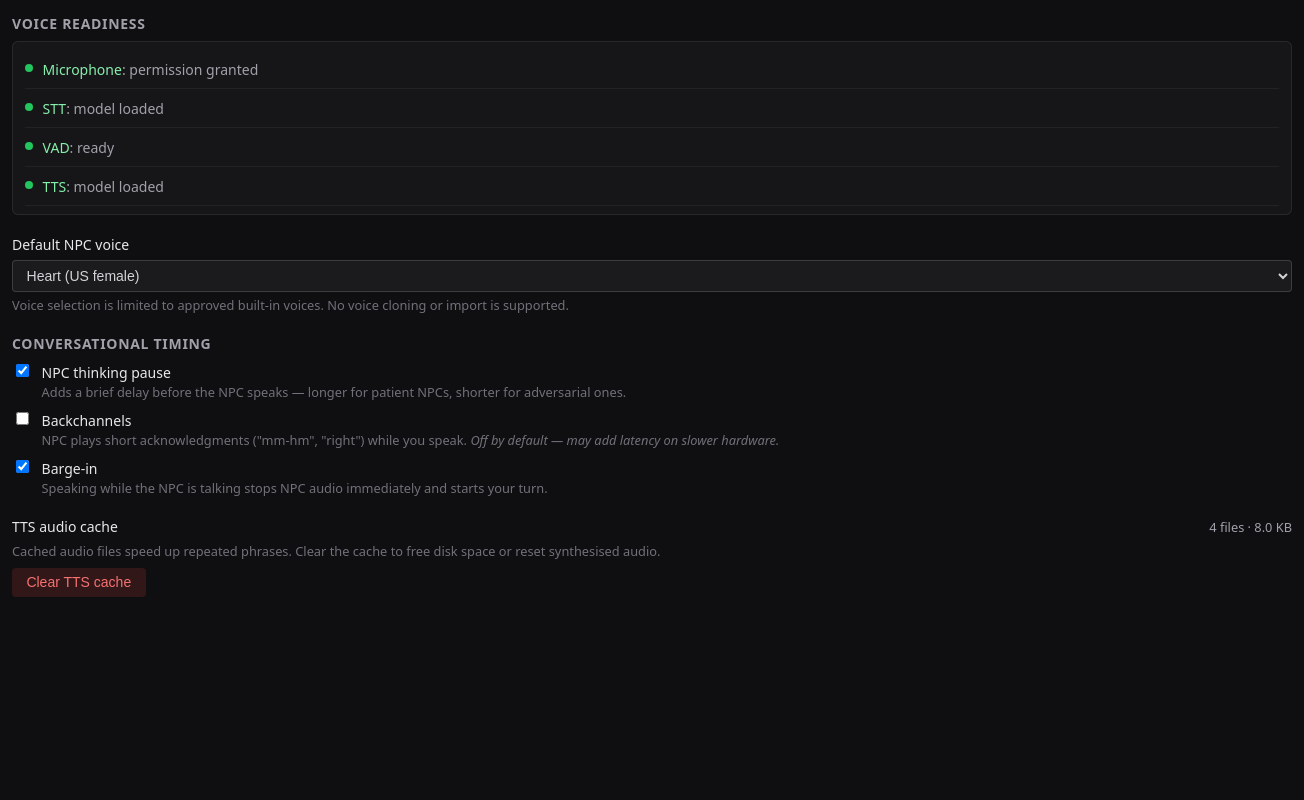
Test: TTS cache › shows error message when clear fails
This screenshot has width=1304, height=800.
Click the button "Clear TTS cache": (79, 582) x1=12 y1=568 x2=146 y2=597
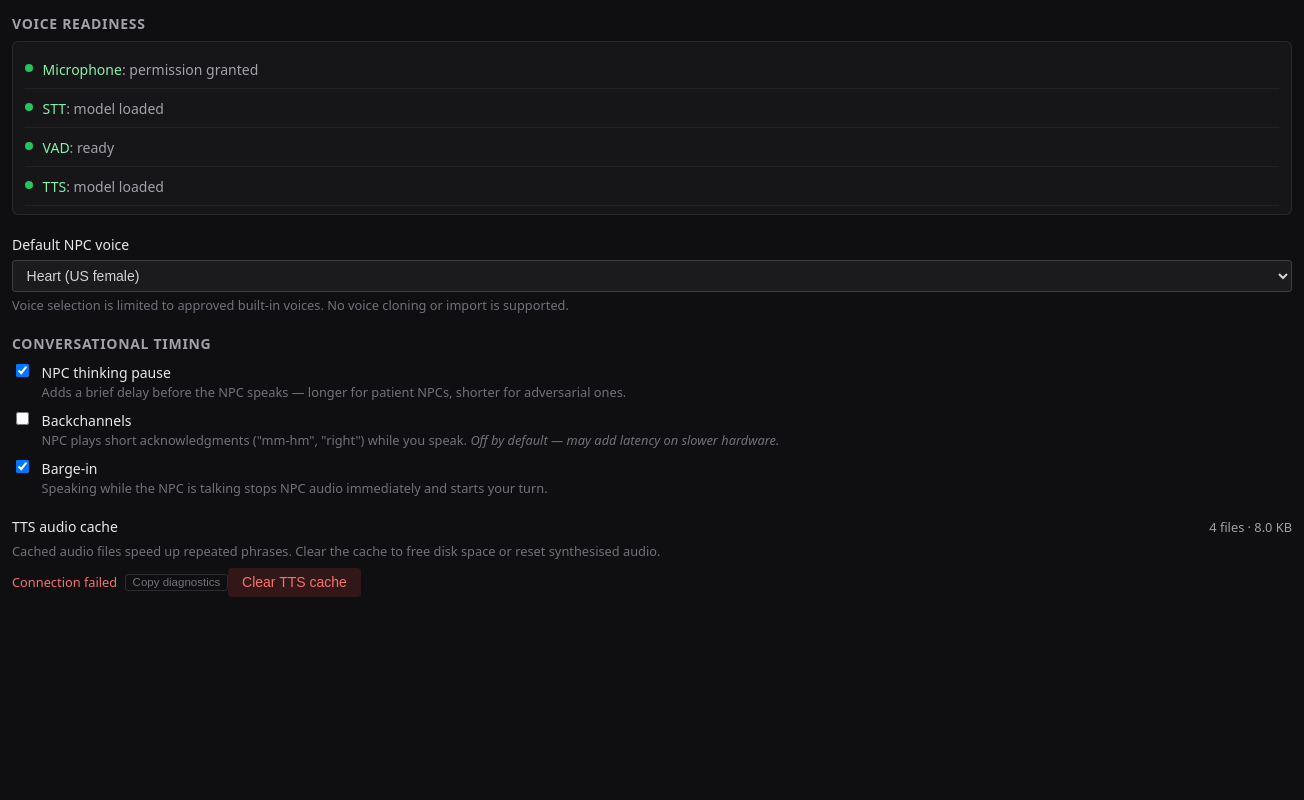
Now the message shows "Connection failed", box x1=12 y1=573 x2=117 y2=591
